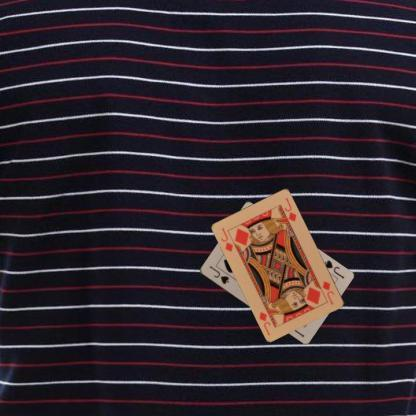Jd: (218, 225, 235, 252), (320, 278, 336, 306)
Js: (207, 262, 230, 286), (321, 258, 346, 280)
